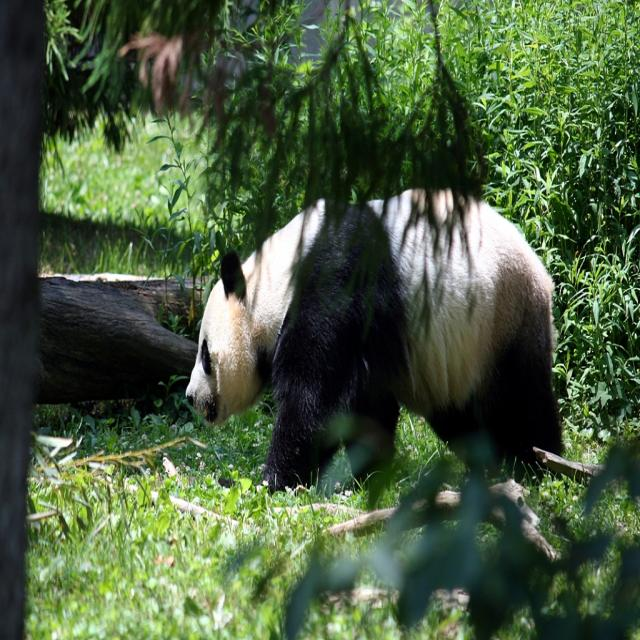panda: (183, 189, 567, 500)
